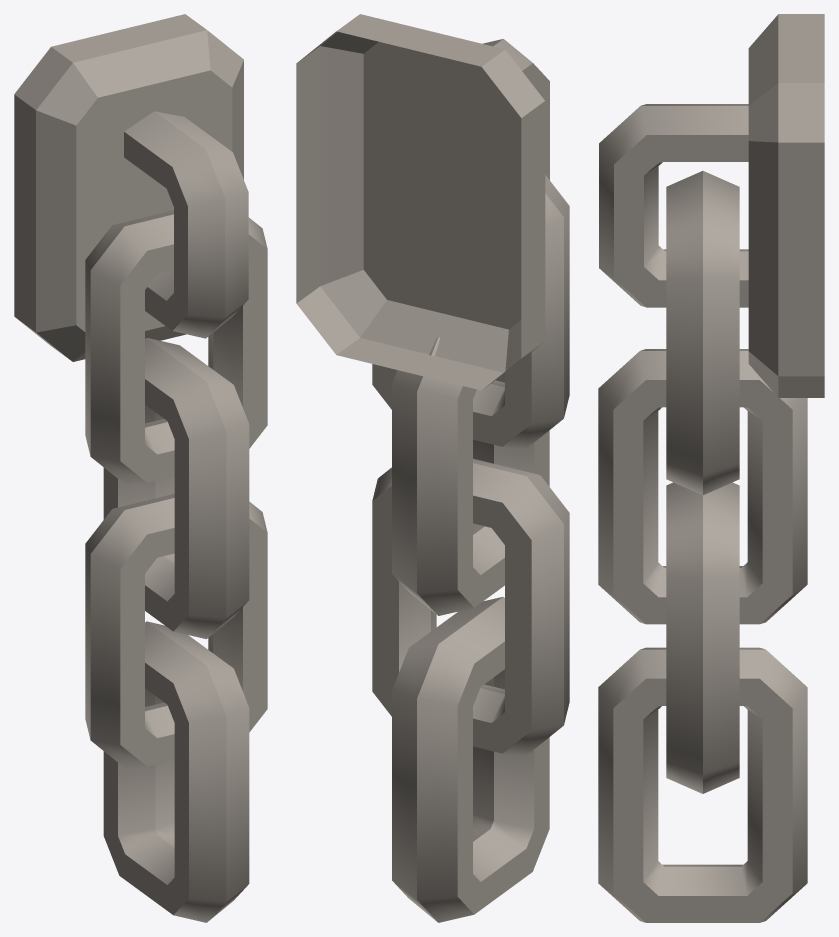
The model's file is m_dec_dung_chainHang.fbx.
3 renders of one model, left to right at view 1: azimuth 30°, elevation 25°; view 2: azimuth 150°, elevation 25°; view 3: azimuth 270°, elevation 25°, orthographic. The views are drawn at different scales.
Parts seen in each view (by area): view 1: m_dec_dung_chainHang; view 2: m_dec_dung_chainHang; view 3: m_dec_dung_chainHang.
Part boxes in pixels (x1,y1,x2,y2): m_dec_dung_chainHang: (14, 14, 267, 922); m_dec_dung_chainHang: (296, 14, 569, 922); m_dec_dung_chainHang: (598, 14, 824, 922).
Size of the model in its own units: 0.5602 by 2.13 by 0.5015.
